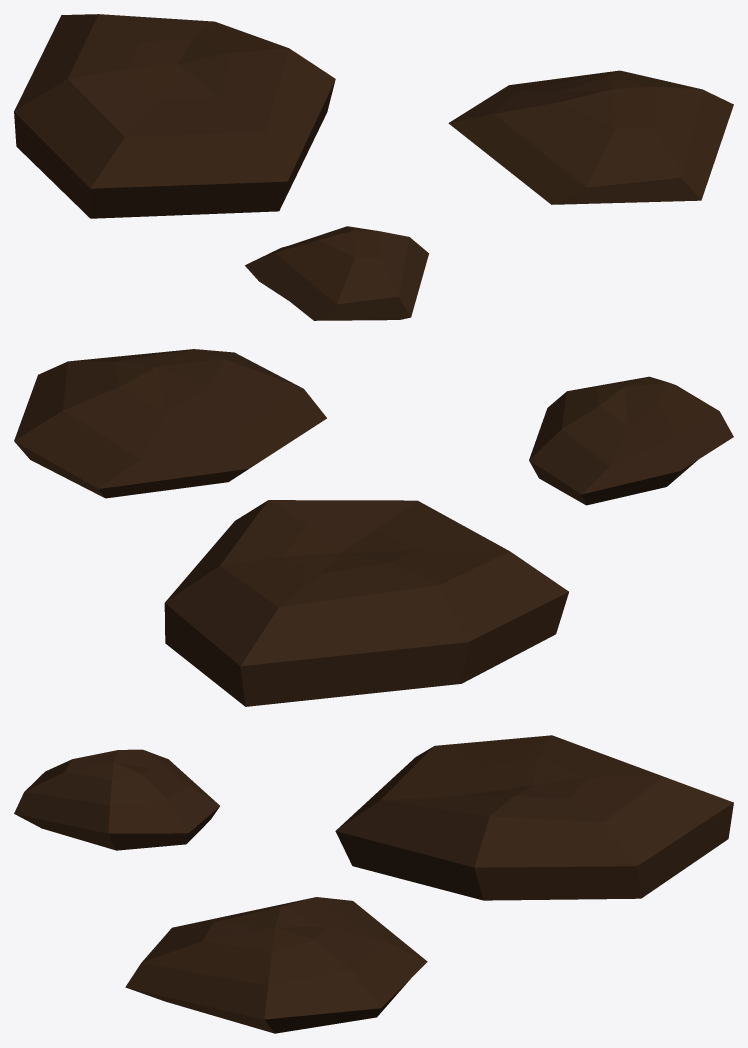
File: SSJ_dirtyFloor1-C.fbx
3 renders of one model, top to bottom at view 1: azimuth 30°, elevation 25°; view 2: azimuth 150°, elevation 25°; view 3: azimuth 270°, elevation 25°, orthographic. The views are drawn at different scales.
Parts seen in each view (by area): view 1: Circle.005; view 2: Circle.005; view 3: Circle.005.
Part boxes in pixels (box(x1,y1,x2,y2)): Circle.005: box(14, 14, 733, 320); Circle.005: box(14, 349, 733, 706); Circle.005: box(14, 735, 733, 1033).
Size of the model in its own units: 221 by 34.01 by 253.
